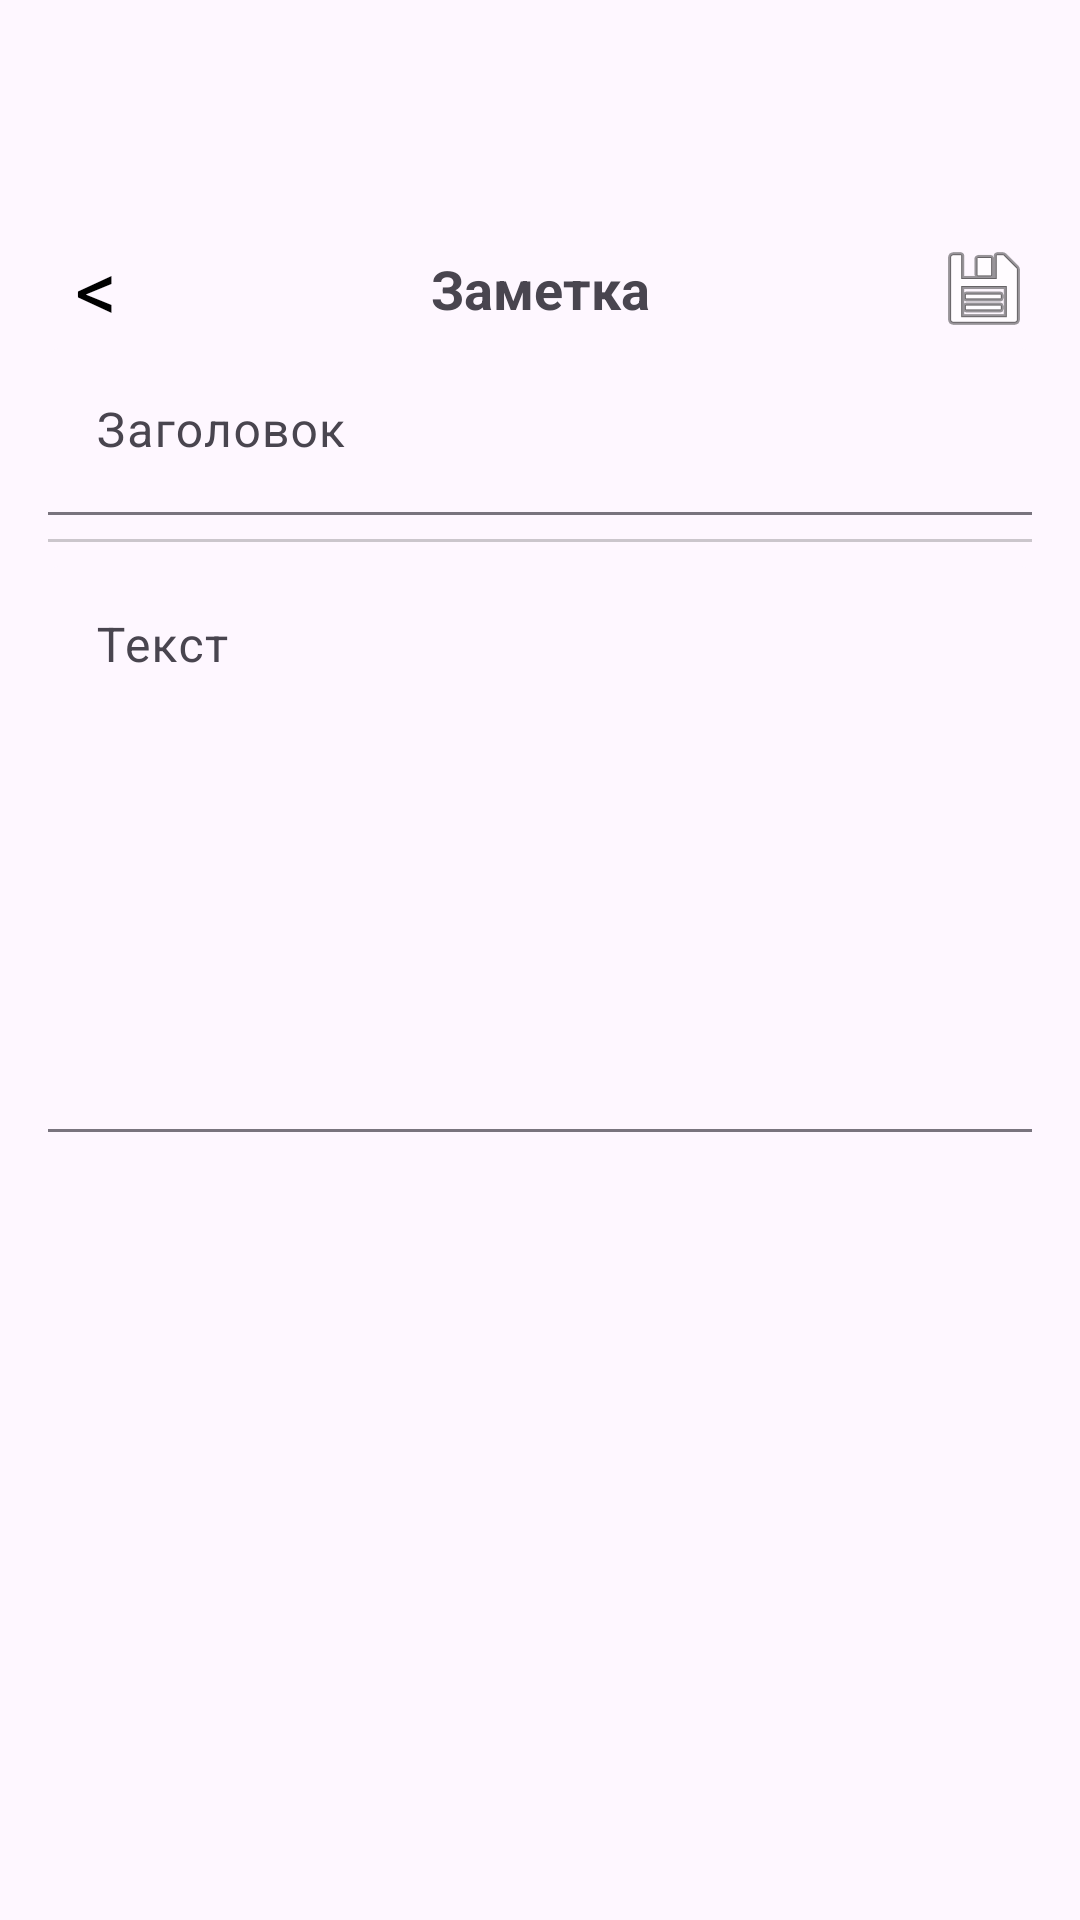

Icon bounding boxes for this 1080 × 1920 phone screenshot, format (left=x1, top=y1, right=x2, bottom=y2):
Сохранить: (left=948, top=252, right=1020, bottom=325)
